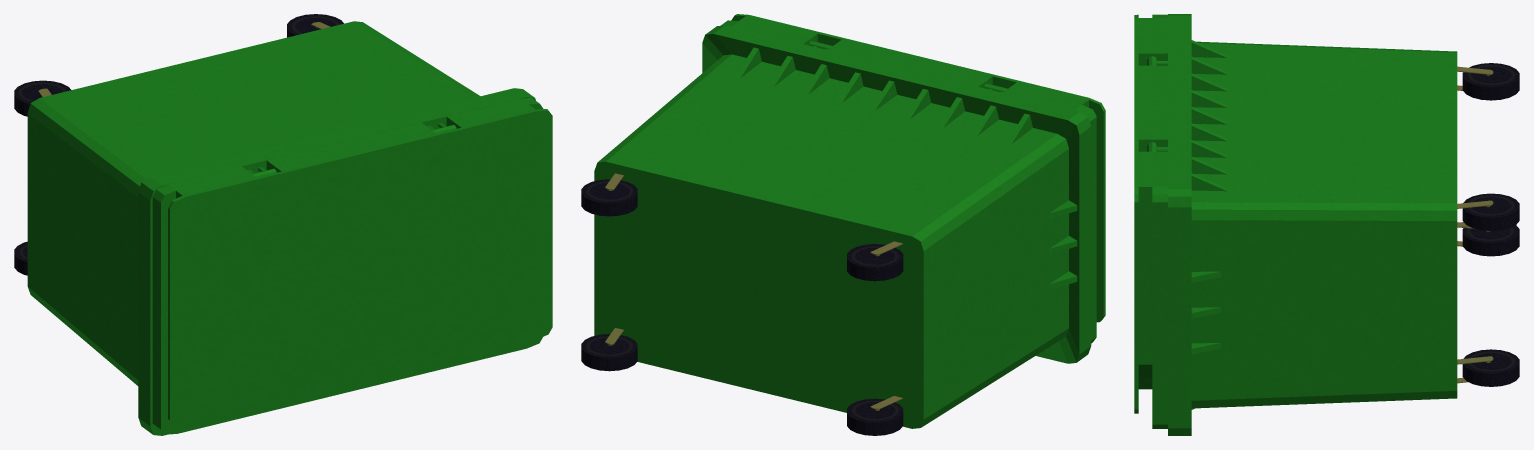
Rendered from trashcan.obj.
3 renders of one model, left to right at view 1: azimuth 30°, elevation 25°; view 2: azimuth 150°, elevation 25°; view 3: azimuth 270°, elevation 25°, orthographic. The views are drawn at different scales.
Bounding box in the file's own units: 1.45 × 0.8916 × 1.27.
Materials: 1 (1 with a texture image).
